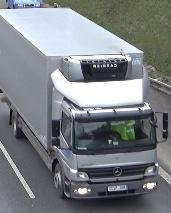Truck: (1, 7, 169, 202)
